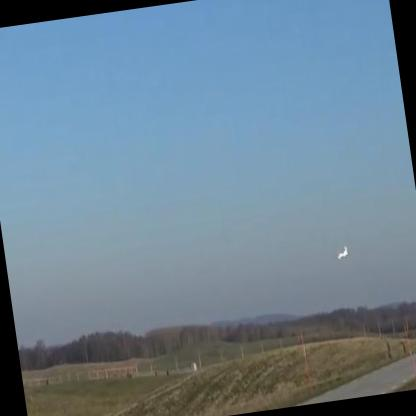plane: (334, 245, 350, 262)
